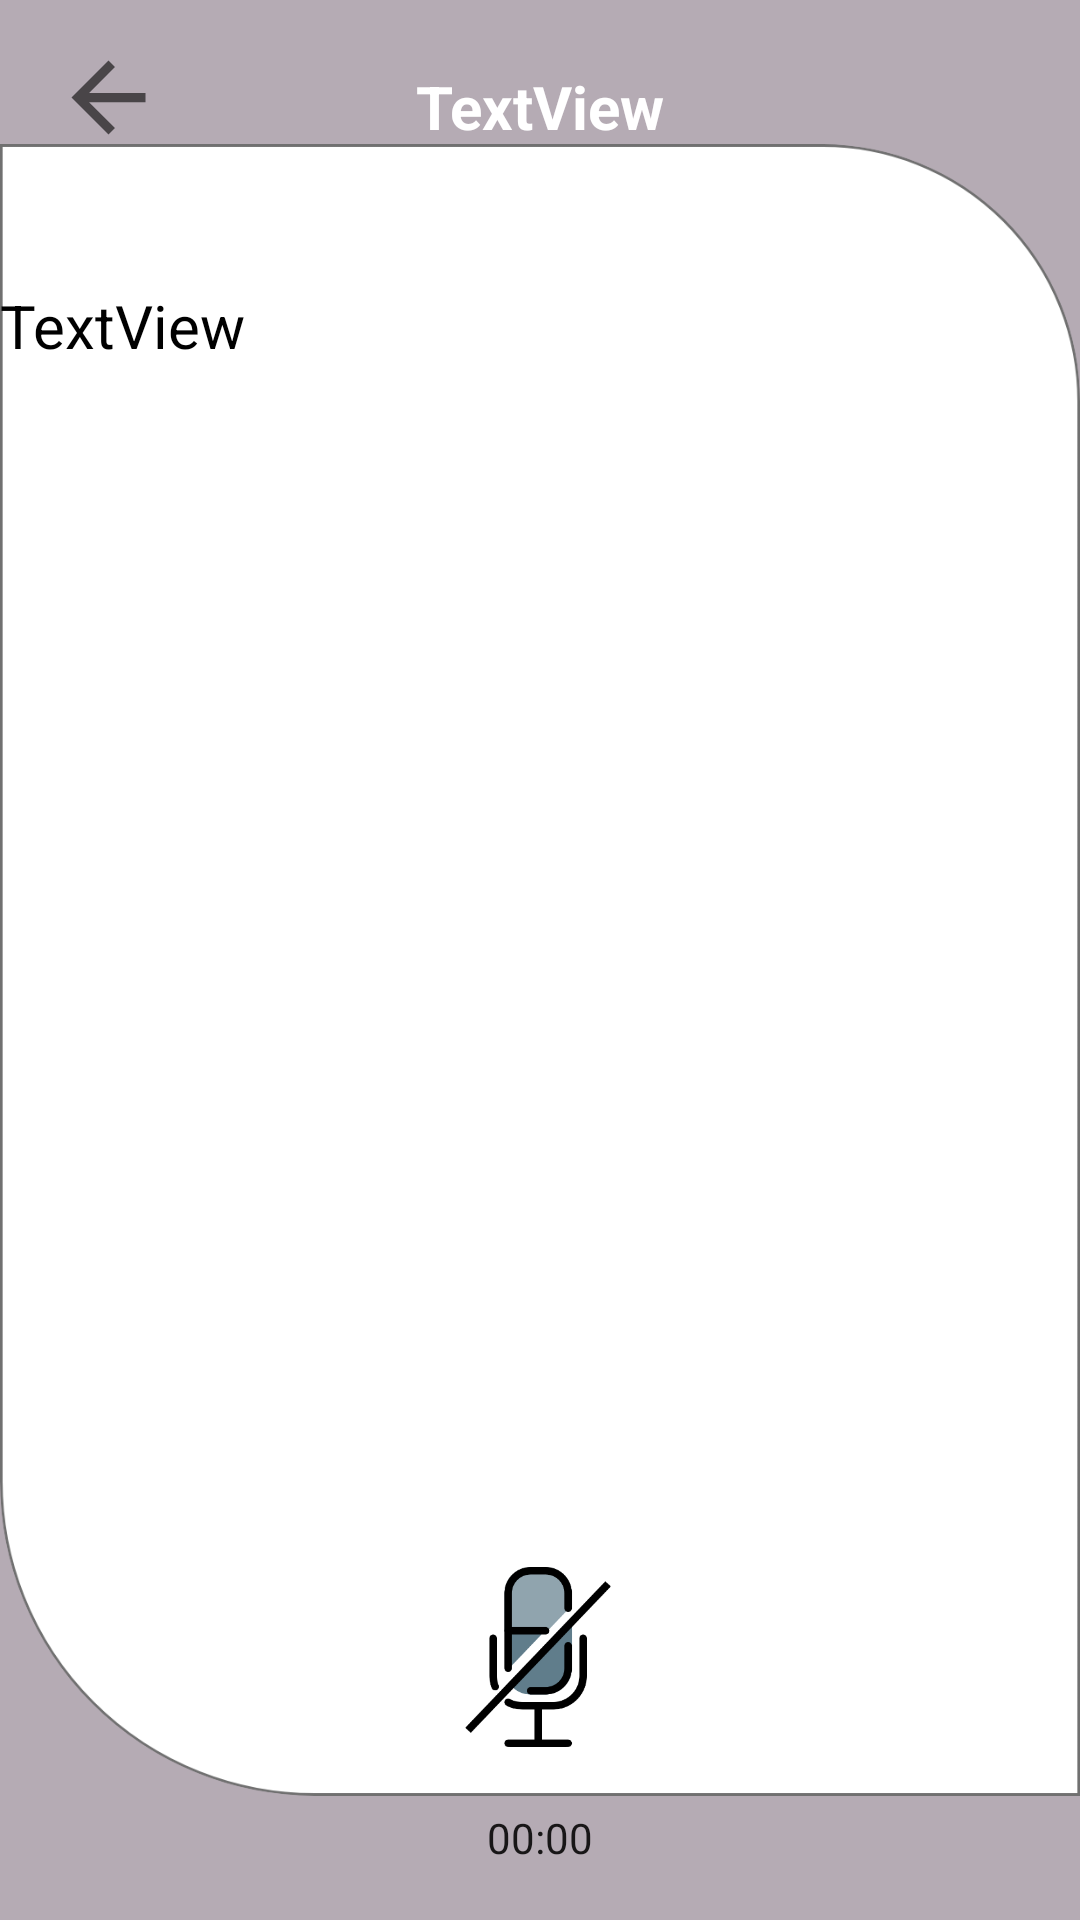

Icon bounding boxes for this 1080 x 1920 phone screenshot, format (x1, y1, x2, y2):
no sound: (465, 1567, 611, 1747)
